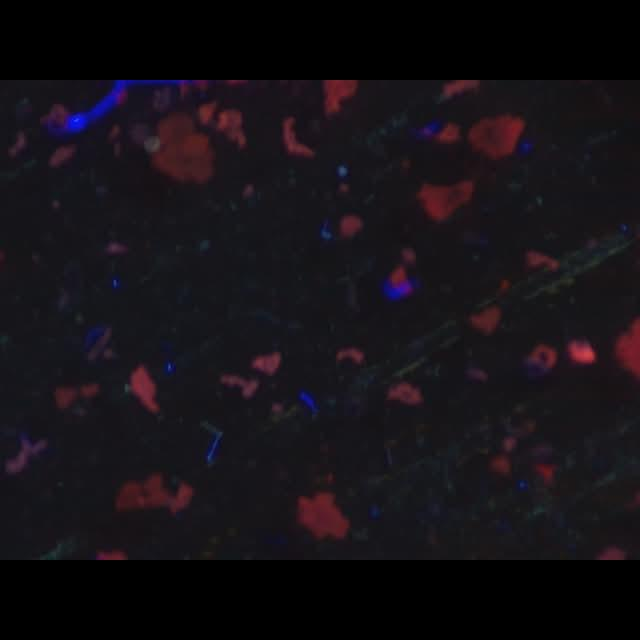Fragment: (114, 471, 194, 515), (296, 492, 350, 540), (130, 367, 160, 413)
